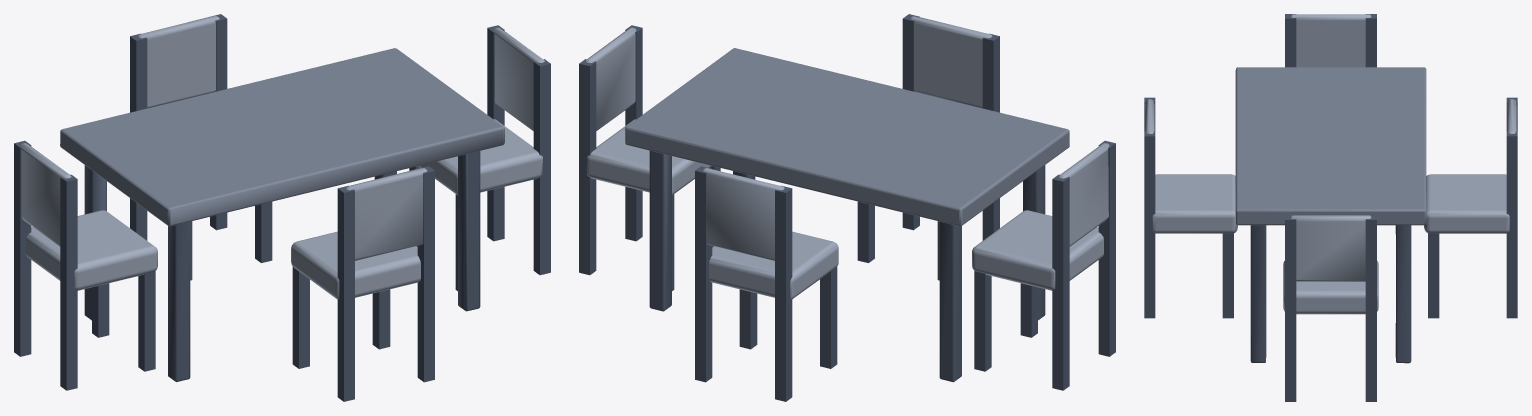
File: table-lite.glb
3 views of the same model, side by side, from view 1: azimuth 30°, elevation 25°; view 2: azimuth 150°, elevation 25°; view 3: azimuth 270°, elevation 25° (orthographic). The views are drawn at different scales.
Visible parts, largest first — view 1: table; view 2: table; view 3: table.
Part boxes in pixels (x1,y1,x2,y2): table: (14, 14, 550, 401); table: (579, 14, 1115, 401); table: (1144, 14, 1517, 401).
Size of the model in its own units: 2.21 by 0.9192 by 1.69.
